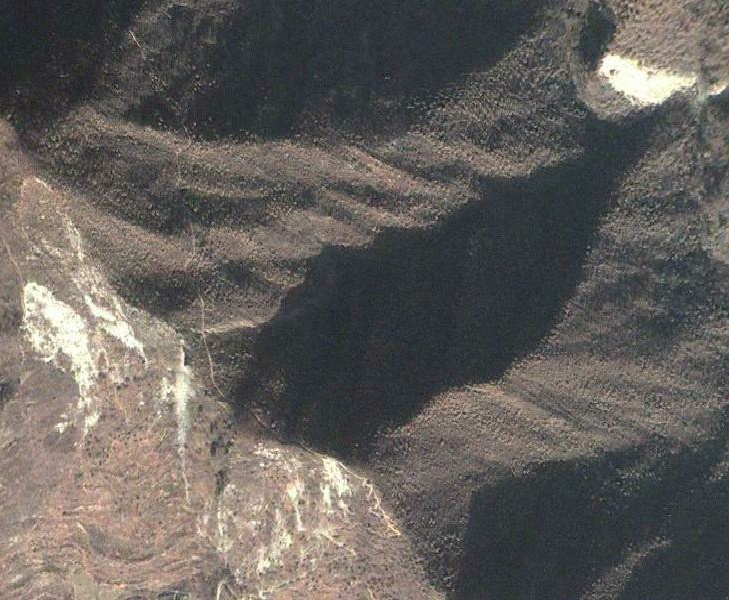slope: (217, 412, 399, 591), (10, 257, 183, 437), (596, 45, 703, 120)
